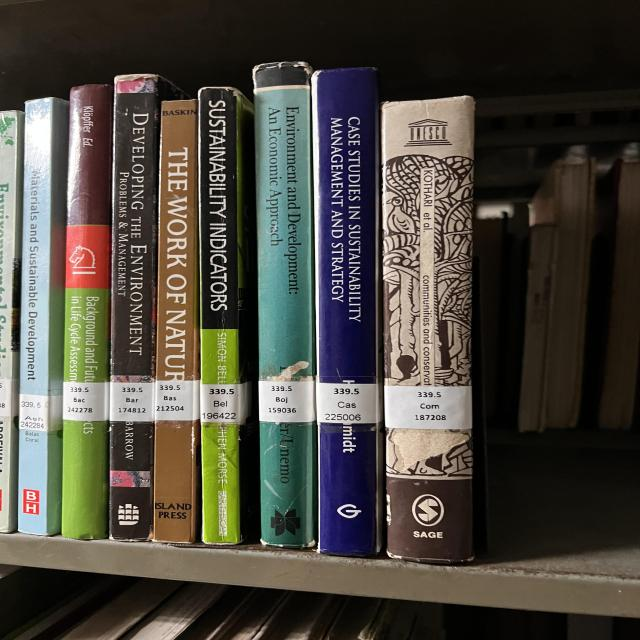Book: (382, 96, 475, 564), (108, 75, 183, 541), (312, 68, 382, 556), (253, 62, 317, 549), (198, 88, 252, 545), (62, 85, 113, 540), (17, 98, 68, 535), (153, 100, 200, 544)
Label: (385, 385, 472, 430), (317, 382, 380, 424), (258, 380, 315, 422), (63, 381, 110, 421), (155, 380, 200, 421), (200, 384, 247, 422), (110, 382, 155, 421), (20, 394, 62, 431)
